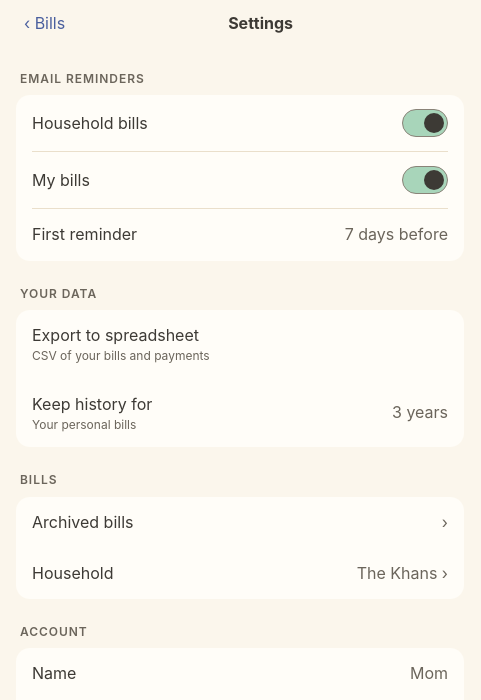
Settings › a failed save reverts the control and shows calm copy
Click the switch named "My bills" at (425, 180), box [402, 166, 448, 194]
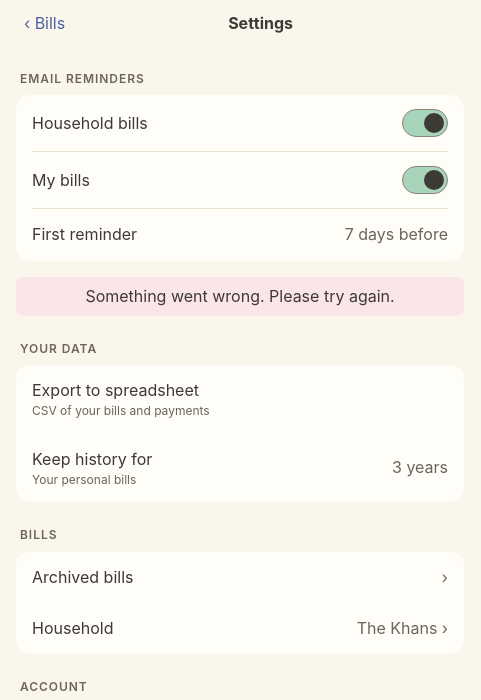
Expected: the message "Something went wrong. Please try again." is shown, [16, 277, 464, 316]
